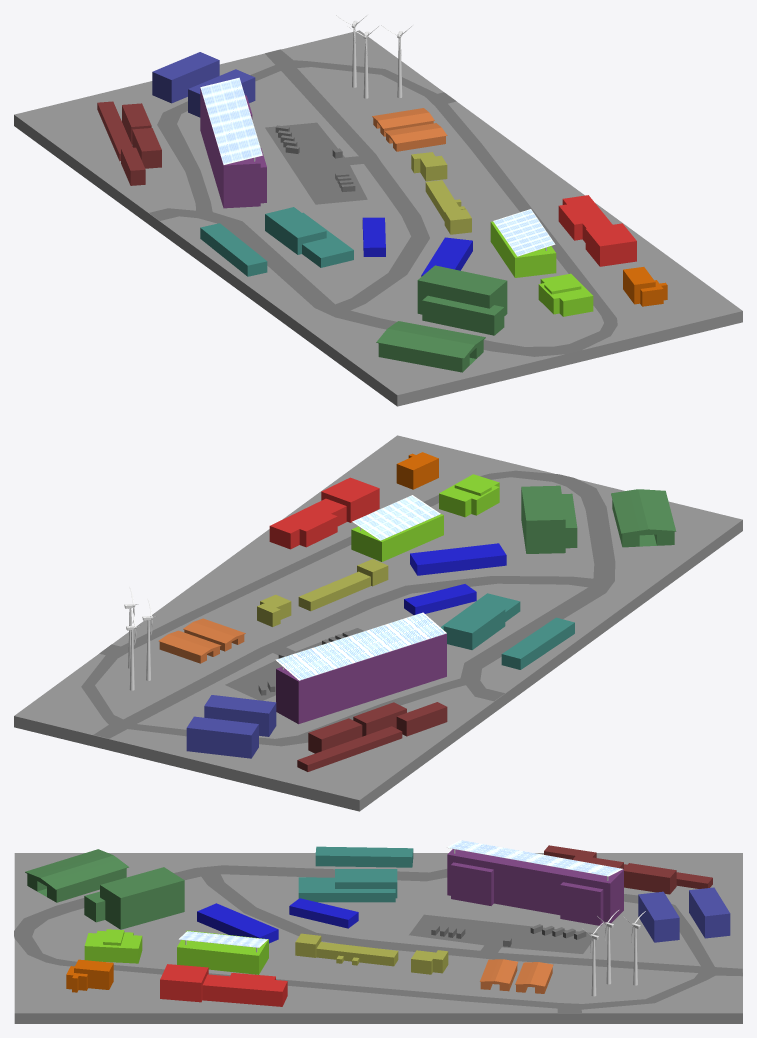
Rendered from Factory.gltf.
The picture shows the model from 3 angles, top to bottom: view 1: azimuth 30°, elevation 25°; view 2: azimuth 150°, elevation 25°; view 3: azimuth 270°, elevation 25°; orthographic projection. The views are drawn at different scales.
Visible parts, largest first — view 1: Grass, Road, Material Generation, Machining, Additive Manufacturing, Surface, Product Planning, Surface Treatment, Paint Shop, Assembly, Recycling, MRO (+4 smaller); view 2: Grass, Road, Assembly, Material Generation, Surface Treatment, Machining, Paint Shop, Surface, Product Planning, Additive Manufacturing, Composite Manufacturing, Recycling (+3 smaller); view 3: Grass, Road, Assembly, Material Generation, Machining, Additive Manufacturing, Product Planning, Paint Shop, Composite Manufacturing, Recycling, Surface Treatment, MRO (+7 smaller).
Boxes of the visible parts, <box> form: Grass: <box>14,30,742,406</box>; Road: <box>149,49,617,356</box>; Material Generation: <box>376,265,507,372</box>; Machining: <box>200,207,353,276</box>; Additive Manufacturing: <box>490,221,593,316</box>; Surface: <box>200,77,262,164</box>; Product Planning: <box>558,195,636,266</box>; Surface Treatment: <box>97,101,161,185</box>; Paint Shop: <box>152,52,255,117</box>; Assembly: <box>200,88,266,208</box>; Recycling: <box>411,152,471,234</box>; MRO: <box>372,108,447,151</box>; Grass: <box>14,435,742,811</box>; Road: <box>81,470,615,746</box>; Assembly: <box>276,633,446,724</box>; Material Generation: <box>521,485,676,553</box>; Surface Treatment: <box>297,702,447,771</box>; Machining: <box>440,593,574,669</box>; Paint Shop: <box>186,695,276,758</box>; Surface: <box>275,612,446,680</box>; Product Planning: <box>269,477,379,549</box>; Additive Manufacturing: <box>351,474,499,561</box>; Composite Manufacturing: <box>404,543,506,615</box>; Recycling: <box>257,559,388,626</box>; Grass: <box>14,853,742,1023</box>; Road: <box>14,865,742,1012</box>; Assembly: <box>447,849,623,925</box>; Material Generation: <box>25,849,184,929</box>; Machining: <box>298,846,413,902</box>; Additive Manufacturing: <box>84,929,268,974</box>; Product Planning: <box>160,964,287,1006</box>; Paint Shop: <box>638,887,730,942</box>; Composite Manufacturing: <box>197,898,358,943</box>; Recycling: <box>295,933,448,974</box>; Surface Treatment: <box>544,845,712,894</box>; MRO: <box>480,959,553,993</box>.
Size of the model in its own units: 35.86 by 8.58 by 68.98.
Materials: 15 (1 with a texture image).
